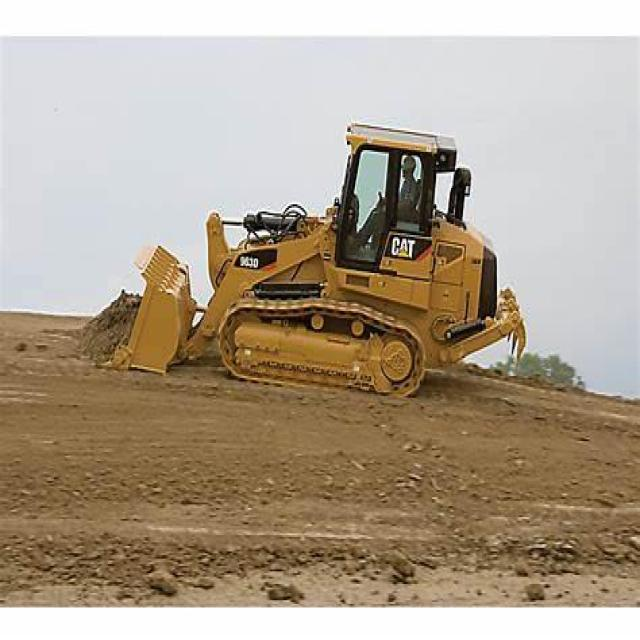buldozerpayloadergrader: (124, 103, 555, 474)
